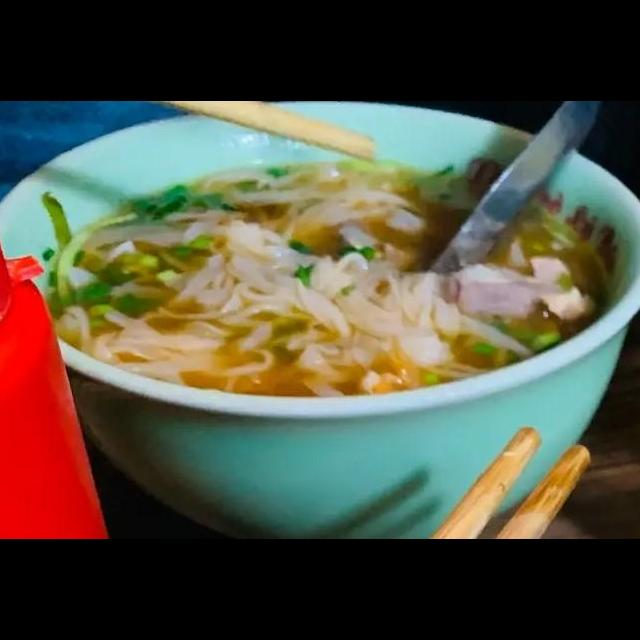banh pho: (35, 205, 462, 405), (174, 153, 436, 275)
